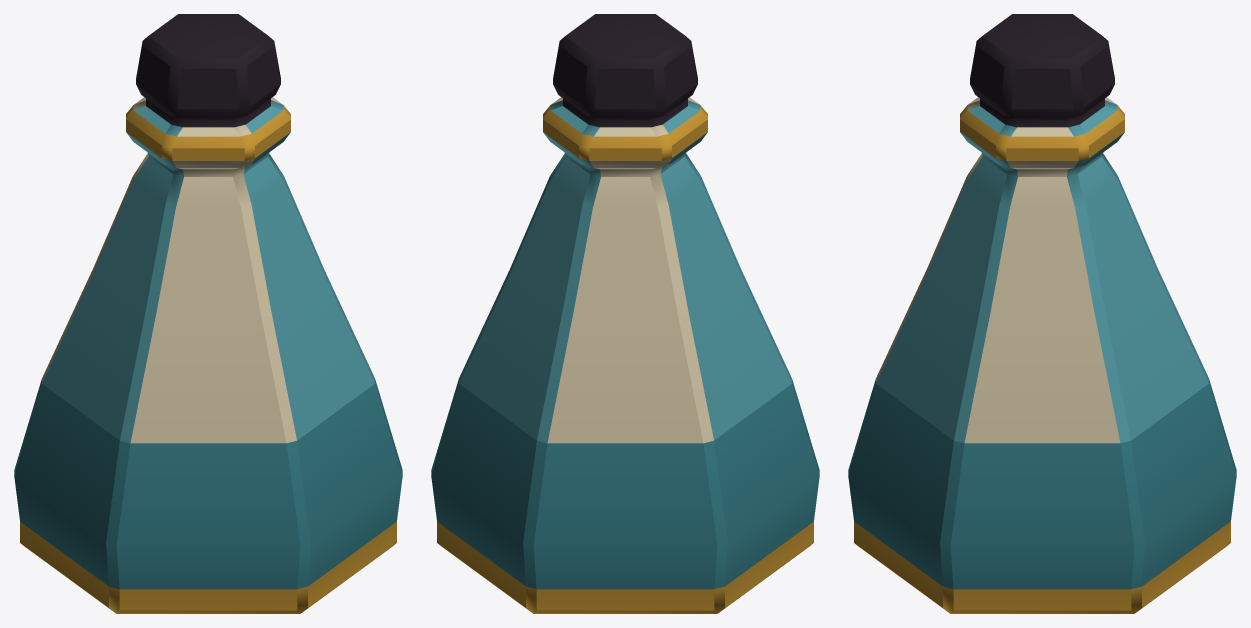
Rendered from Bottle_13.glb.
The picture shows the model from 3 angles, left to right: view 1: azimuth 30°, elevation 25°; view 2: azimuth 150°, elevation 25°; view 3: azimuth 270°, elevation 25°; orthographic projection.
Visible parts, largest first — view 1: Bottle_13; view 2: Bottle_13; view 3: Bottle_13.
Boxes of the visible parts, left/top/right/bottom form: Bottle_13: left=14, top=14, right=402, bottom=613; Bottle_13: left=431, top=14, right=819, bottom=613; Bottle_13: left=848, top=14, right=1236, bottom=613.
Bounding box in the file's own units: 1.23 × 2.06 × 1.39.
